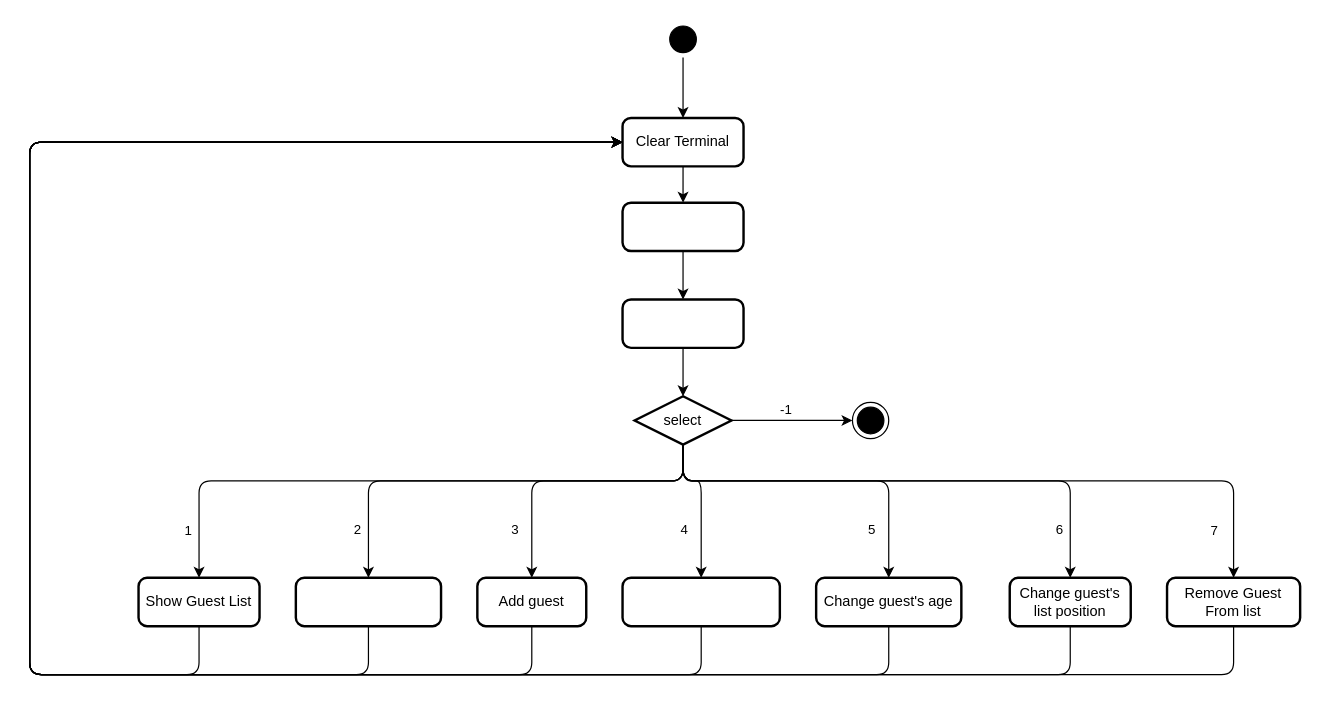
Image size: 1323x705. Some labels were removed from this diagram. The centre of each missing label's shape, as x and y in pixels:
Change guest's name: (700,601)
Print Menu: (682,226)
Read Input: (682,323)
Show Guest Statistics: (368,601)
